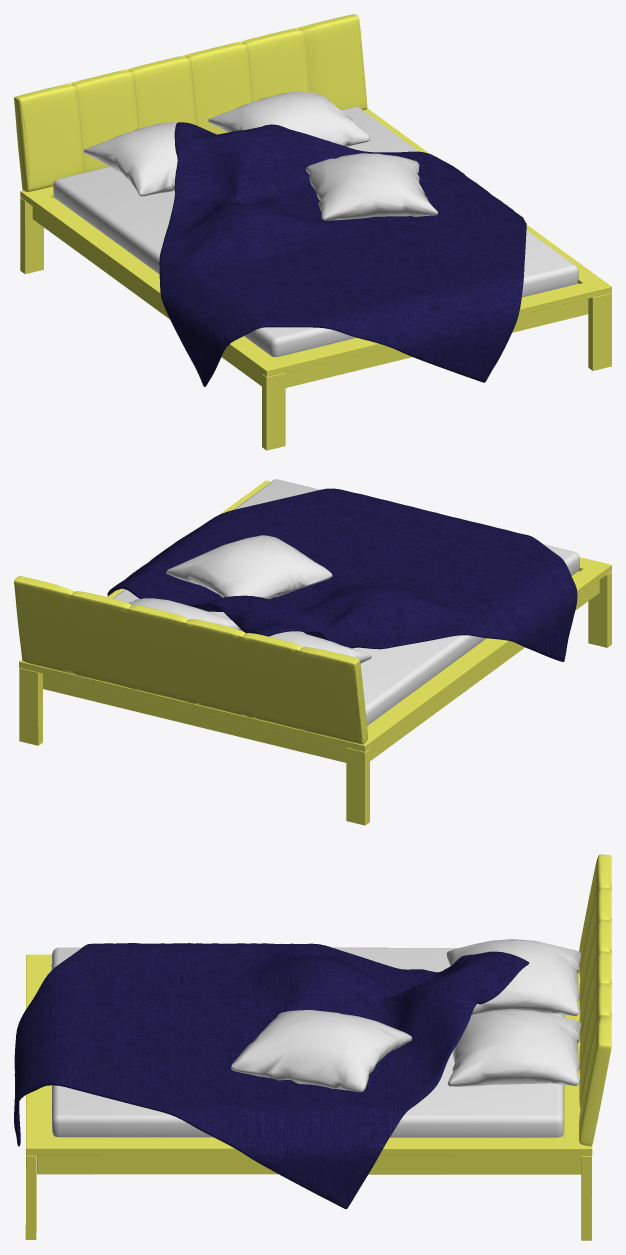
Rendered from bed.glb.
The picture shows the model from 3 angles, top to bottom: view 1: azimuth 30°, elevation 25°; view 2: azimuth 150°, elevation 25°; view 3: azimuth 270°, elevation 25°; orthographic projection. The views are drawn at different scales.
Parts seen in each view (by area): view 1: bed_cloth, bed_frame, cushion, bed_matless; view 2: bed_frame, bed_cloth, cushion, bed_matless; view 3: bed_cloth, bed_frame, cushion, bed_matless.
Part boxes in pixels (bbox=[...]): bed_cloth: bbox=[159, 122, 526, 386]; bed_frame: bbox=[14, 14, 611, 450]; cushion: bbox=[83, 91, 437, 220]; bed_matless: bbox=[53, 106, 578, 357]; bed_frame: bbox=[14, 480, 611, 825]; bed_cloth: bbox=[107, 488, 577, 661]; cushion: bbox=[128, 535, 371, 663]; bed_matless: bbox=[112, 479, 579, 725]; bed_cloth: bbox=[14, 943, 529, 1209]; bed_frame: bbox=[25, 854, 611, 1240]; cushion: bbox=[231, 939, 580, 1092]; bed_matless: bbox=[52, 947, 563, 1137].
Bounding box in the file's own units: 2.37 × 1.06 × 2.95.
Materials: 3 (1 with a texture image).
